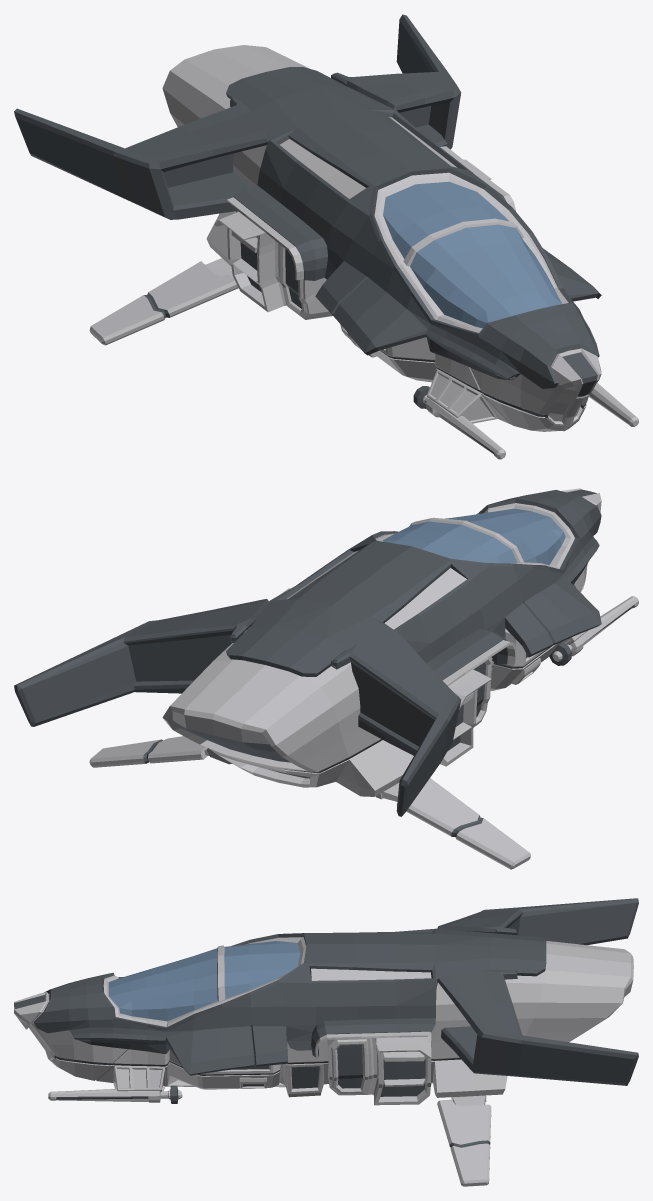
Rendered from Fighter_07_Neutral.fbx.
3 renders of one model, top to bottom at view 1: azimuth 30°, elevation 25°; view 2: azimuth 150°, elevation 25°; view 3: azimuth 270°, elevation 25°, orthographic. The views are drawn at different scales.
Parts seen in each view (by area): view 1: Fighter_07_Neutral; view 2: Fighter_07_Neutral; view 3: Fighter_07_Neutral.
Boxes of the visible parts, x1,y1,x2,y2 form: Fighter_07_Neutral: [14, 14, 638, 459]; Fighter_07_Neutral: [14, 488, 638, 869]; Fighter_07_Neutral: [14, 898, 638, 1186].
Size of the model in its own units: 1400 by 602 by 2152.
Materials: 3 (3 with a texture image).
